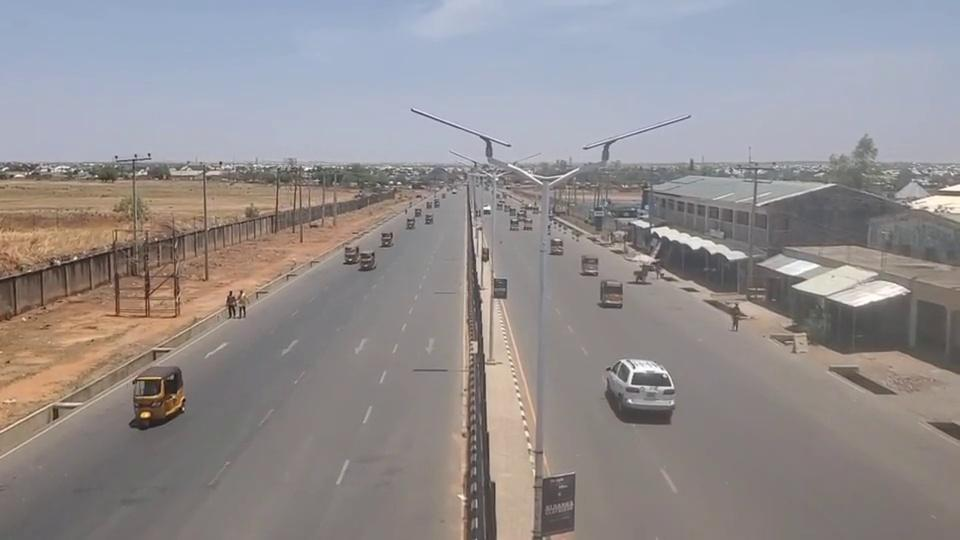car: (604, 357, 677, 417)
keke: (130, 364, 186, 428), (599, 279, 624, 308), (581, 255, 599, 275), (359, 250, 376, 270), (343, 245, 360, 264), (550, 237, 564, 255), (380, 231, 393, 247), (523, 217, 533, 230), (406, 217, 415, 229)
